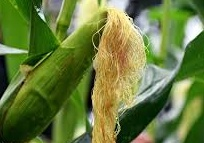corn_plant: (2, 2, 139, 142)
